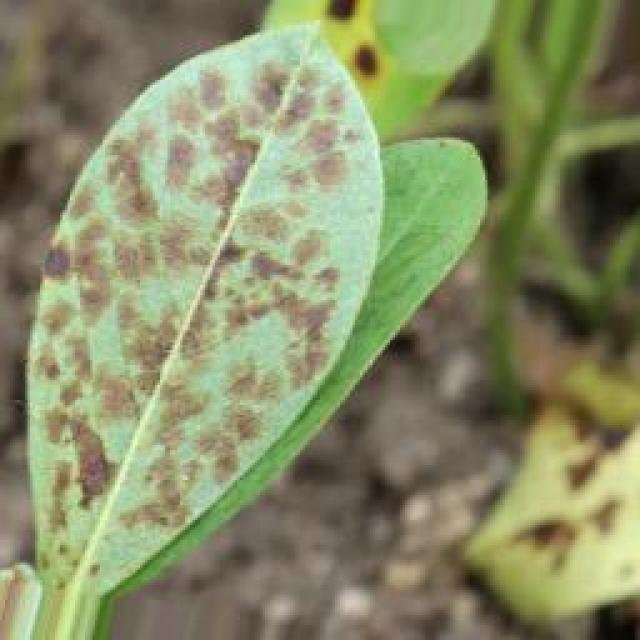Whitefly: (33, 26, 354, 547), (259, 0, 406, 113)
